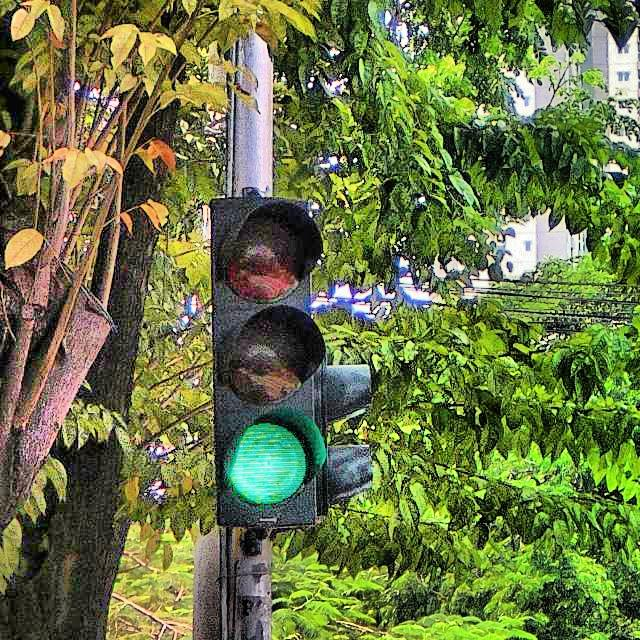green: (204, 196, 328, 524)
